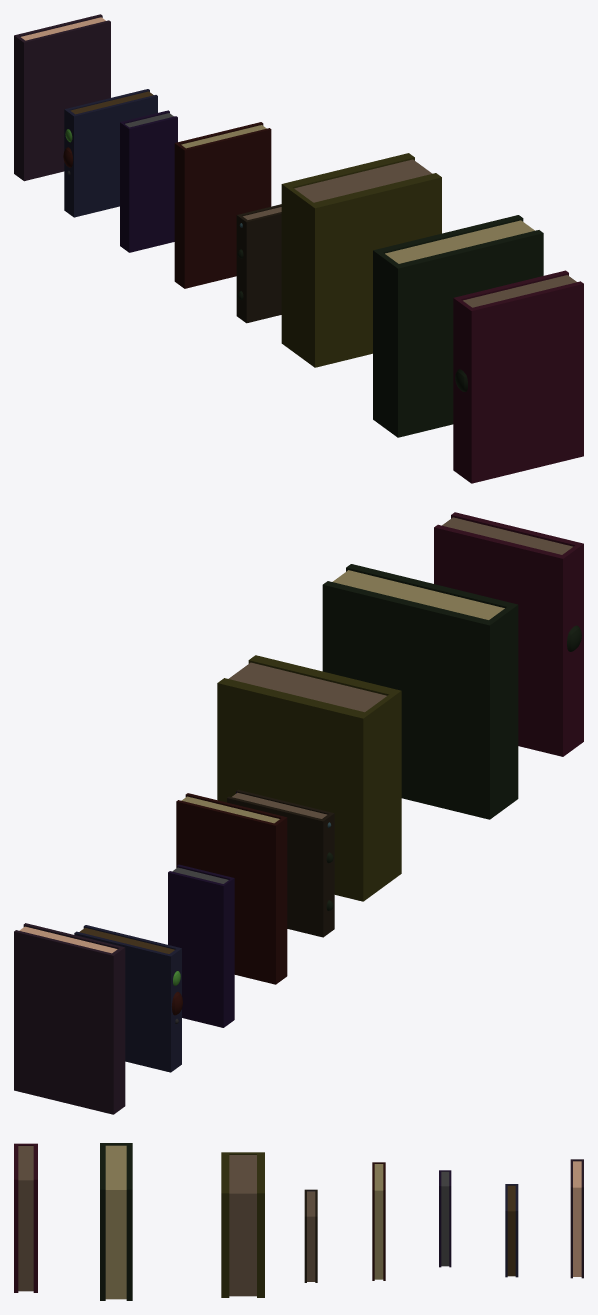
File: books.fbx
3 views of the same model, one above another, from view 1: azimuth 30°, elevation 25°; view 2: azimuth 150°, elevation 25°; view 3: azimuth 270°, elevation 25° (orthographic). The views are drawn at different scales.
Parts seen in each view (by area): view 1: book 8, book 6, book 7, book 4, book 1 colored, book 3, book 2, book 5; view 2: book 7, book 6, book 8, book 1 colored, book 4, book 3, book 2, book 5; view 3: book 6, book 7, book 8, book 1 colored, book 4, book 2, book 5, book 3.
Boxes of the visible parts, x1,y1,x2,y2 form: book 8: [453, 270, 583, 483]; book 6: [281, 153, 441, 367]; book 7: [373, 215, 543, 437]; book 4: [174, 122, 271, 288]; book 1 colored: [14, 14, 110, 181]; book 3: [120, 110, 177, 252]; book 2: [63, 89, 157, 217]; book 5: [236, 204, 281, 323]; book 7: [322, 564, 518, 819]; book 6: [217, 655, 401, 901]; book 8: [434, 512, 583, 756]; book 1 colored: [14, 923, 125, 1114]; book 4: [176, 793, 287, 984]; book 3: [168, 864, 234, 1027]; book 2: [74, 925, 182, 1072]; book 5: [227, 789, 334, 937]; book 6: [221, 1152, 264, 1297]; book 7: [100, 1143, 132, 1300]; book 8: [14, 1143, 37, 1292]; book 1 colored: [570, 1159, 583, 1278]; book 4: [372, 1162, 385, 1280]; book 2: [505, 1184, 518, 1277]; book 5: [304, 1189, 317, 1282]; book 3: [439, 1170, 451, 1267].
Size of the model in its own units: 18.58 by 18.68 by 84.24.
